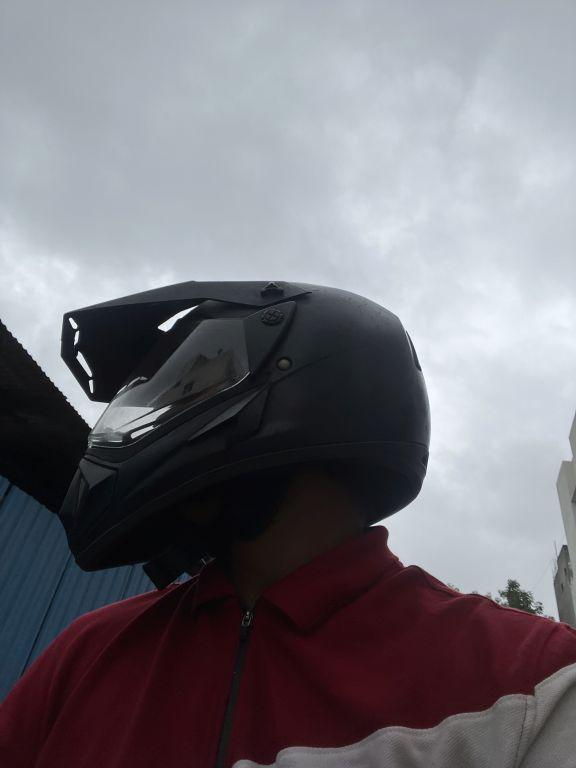helmet: (47, 260, 452, 589)
